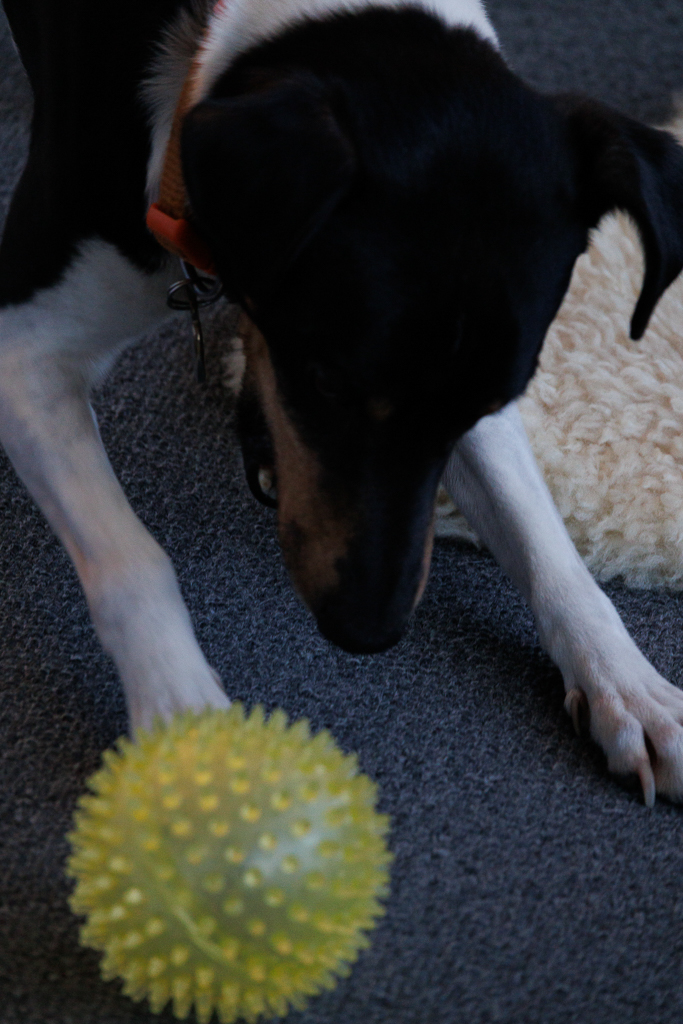Dog: (0, 0, 683, 830)
